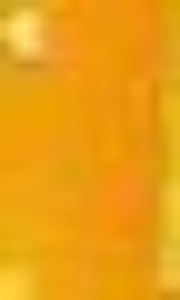Hotspot: (3, 4, 46, 66)
